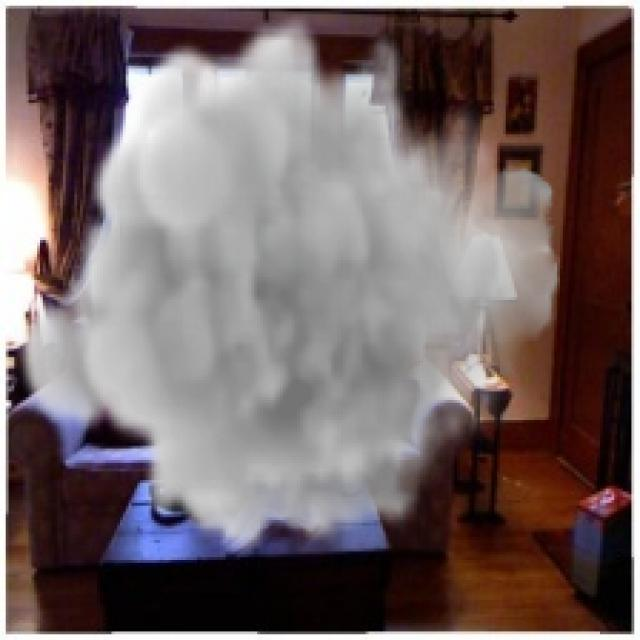Smoke: (11, 14, 563, 554)
